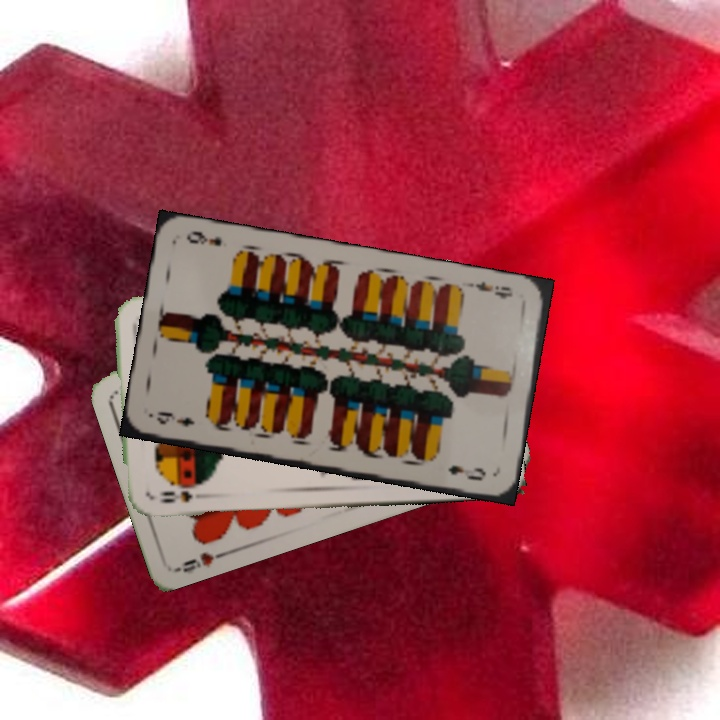E9: (466, 277, 516, 302), (152, 407, 197, 429)
H9: (173, 546, 231, 575)
SO: (155, 483, 209, 505)
